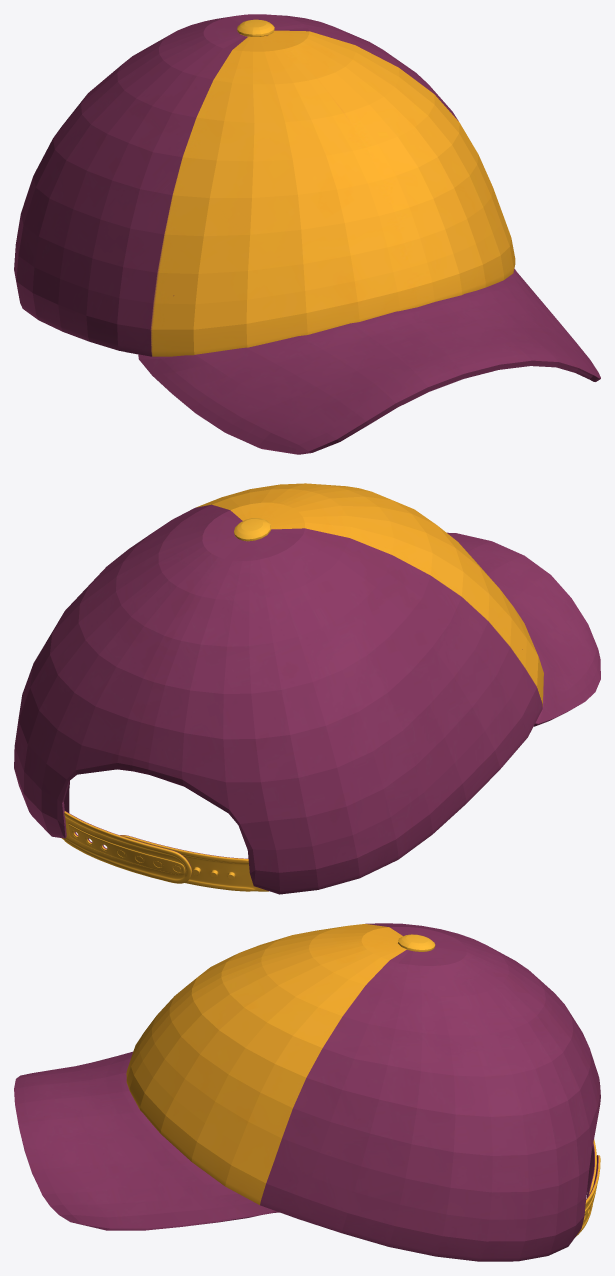
The model's file is Baseball_Cap.fbx.
3 renders of one model, top to bottom at view 1: azimuth 30°, elevation 25°; view 2: azimuth 150°, elevation 25°; view 3: azimuth 270°, elevation 25°, orthographic. The views are drawn at different scales.
Parts seen in each view (by area): view 1: Baseball_cap; view 2: Baseball_cap; view 3: Baseball_cap.
Boxes of the visible parts, box(x1,y1,x2,y2) form: Baseball_cap: box(14, 14, 600, 454); Baseball_cap: box(14, 483, 600, 894); Baseball_cap: box(14, 923, 600, 1261).
Size of the model in its own units: 46.29 by 30.85 by 63.17.
Materials: 1 (1 with a texture image).
